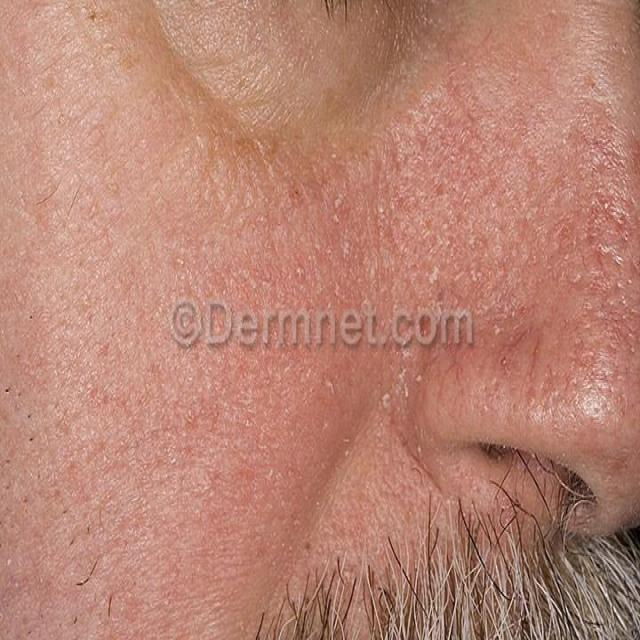Eczema: (176, 142, 632, 532)
